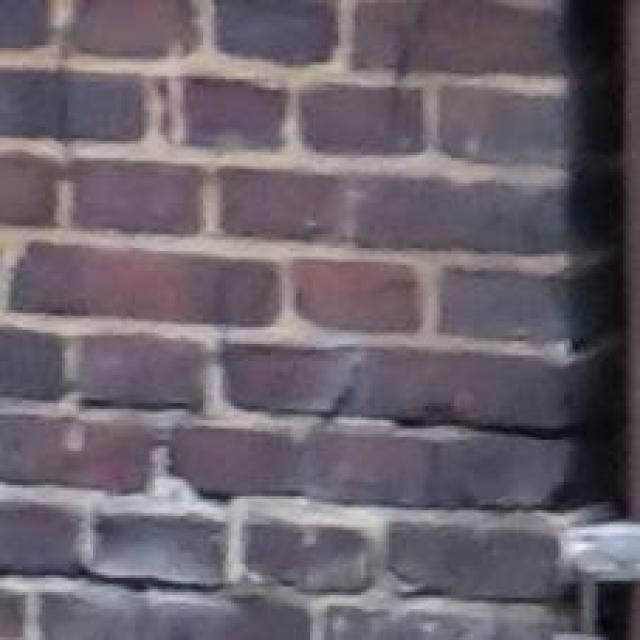Crack: (451, 0, 640, 640)
